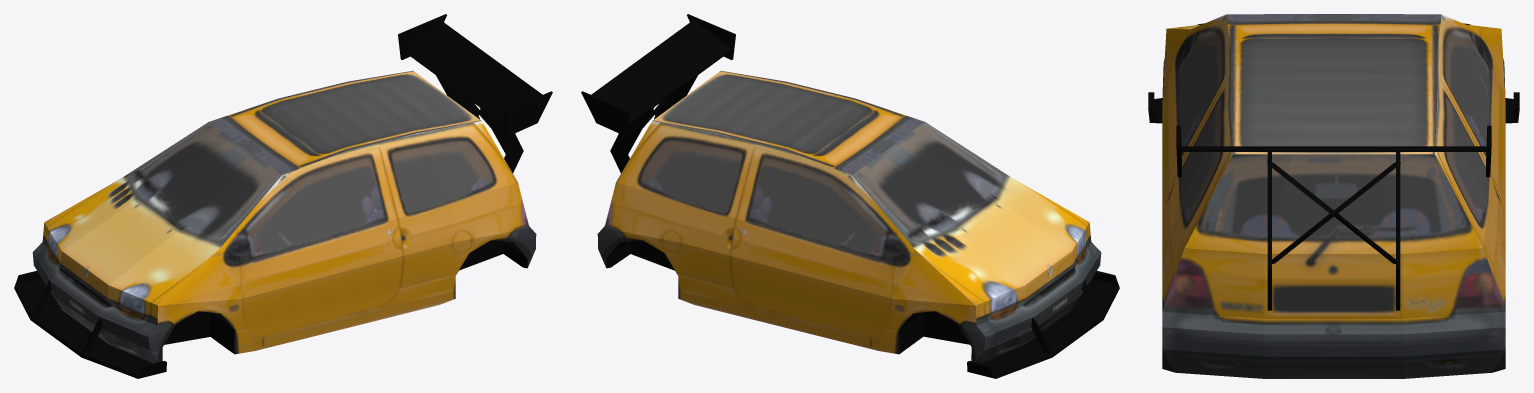
Rendered from twingo.glb.
The picture shows the model from 3 angles, left to right: view 1: azimuth 30°, elevation 25°; view 2: azimuth 150°, elevation 25°; view 3: azimuth 270°, elevation 25°; orthographic projection. The views are drawn at different scales.
Visible parts, largest first — view 1: Cube, wing_aero, splitter_aero; view 2: Cube, wing_aero, splitter_aero; view 3: Cube, wing_aero, splitter_aero.
Boxes of the visible parts, x1,y1,x2,y2 form: Cube: [32, 71, 536, 363]; wing_aero: [398, 14, 552, 173]; splitter_aero: [14, 271, 166, 378]; Cube: [597, 71, 1101, 363]; wing_aero: [581, 14, 735, 173]; splitter_aero: [967, 271, 1119, 378]; Cube: [1162, 14, 1505, 378]; wing_aero: [1176, 125, 1491, 310]; splitter_aero: [1148, 92, 1519, 123].
Bounding box in the file's own units: 3.65 × 1.42 × 1.79.
2 materials, 1 textured.
